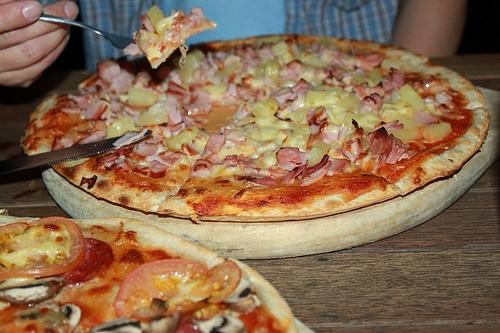pineapple: (166, 126, 200, 152), (104, 115, 139, 140), (398, 84, 428, 112), (344, 113, 380, 134), (138, 102, 168, 126), (282, 104, 314, 126), (305, 91, 345, 108), (421, 123, 453, 144), (306, 140, 330, 168), (250, 97, 280, 118), (178, 54, 198, 85), (128, 87, 159, 106), (270, 40, 294, 64), (388, 112, 426, 127), (291, 124, 312, 150), (380, 58, 412, 73), (298, 51, 324, 69), (388, 127, 421, 141), (325, 106, 347, 126), (148, 5, 166, 29), (264, 60, 280, 86), (215, 62, 243, 76), (192, 132, 211, 152), (201, 82, 228, 96), (257, 140, 280, 154), (259, 127, 280, 141), (368, 68, 384, 86), (350, 74, 369, 86), (248, 79, 264, 90), (290, 44, 301, 58), (315, 73, 327, 85)
tomato: (113, 258, 241, 322), (0, 217, 85, 282)
